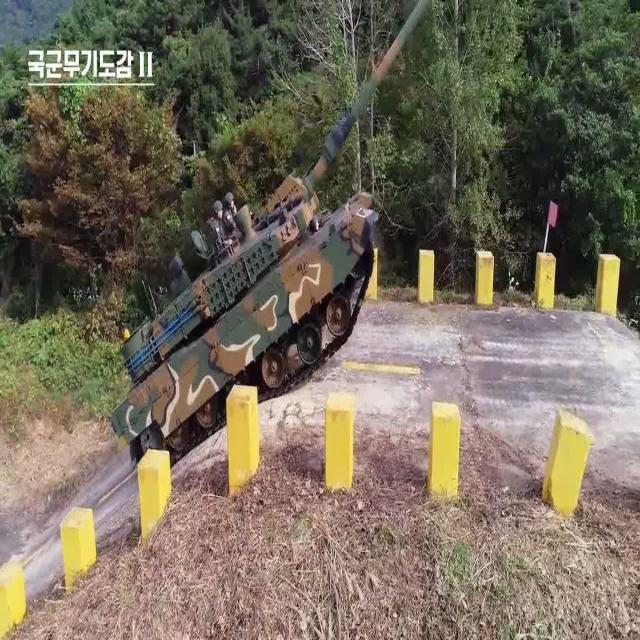korea tank: (109, 1, 437, 475)
